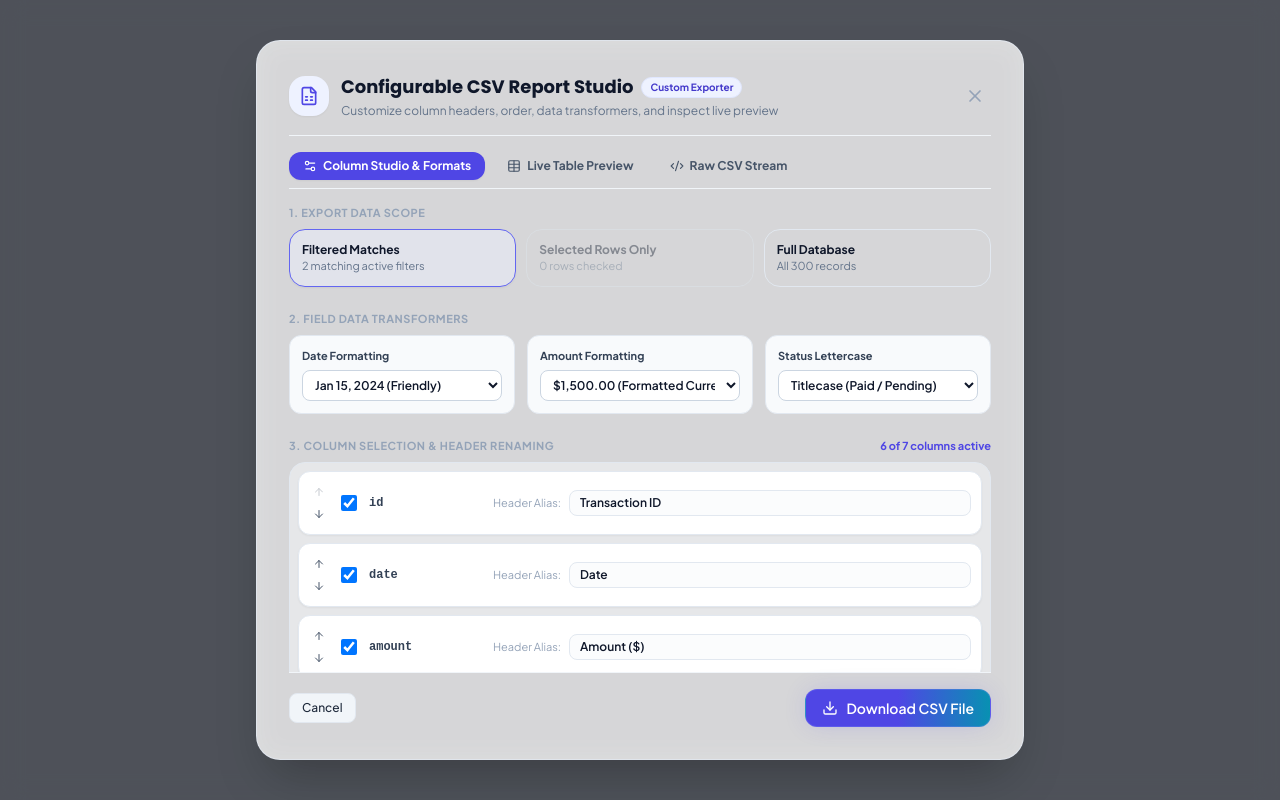
Test: CsvExportModal Component › switches to raw CSV stream tab and shows CSV format
The width and height of the screenshot is (1280, 800).
Click the button "Raw CSV Stream".
click(728, 166)  # box [656,152,801,180]
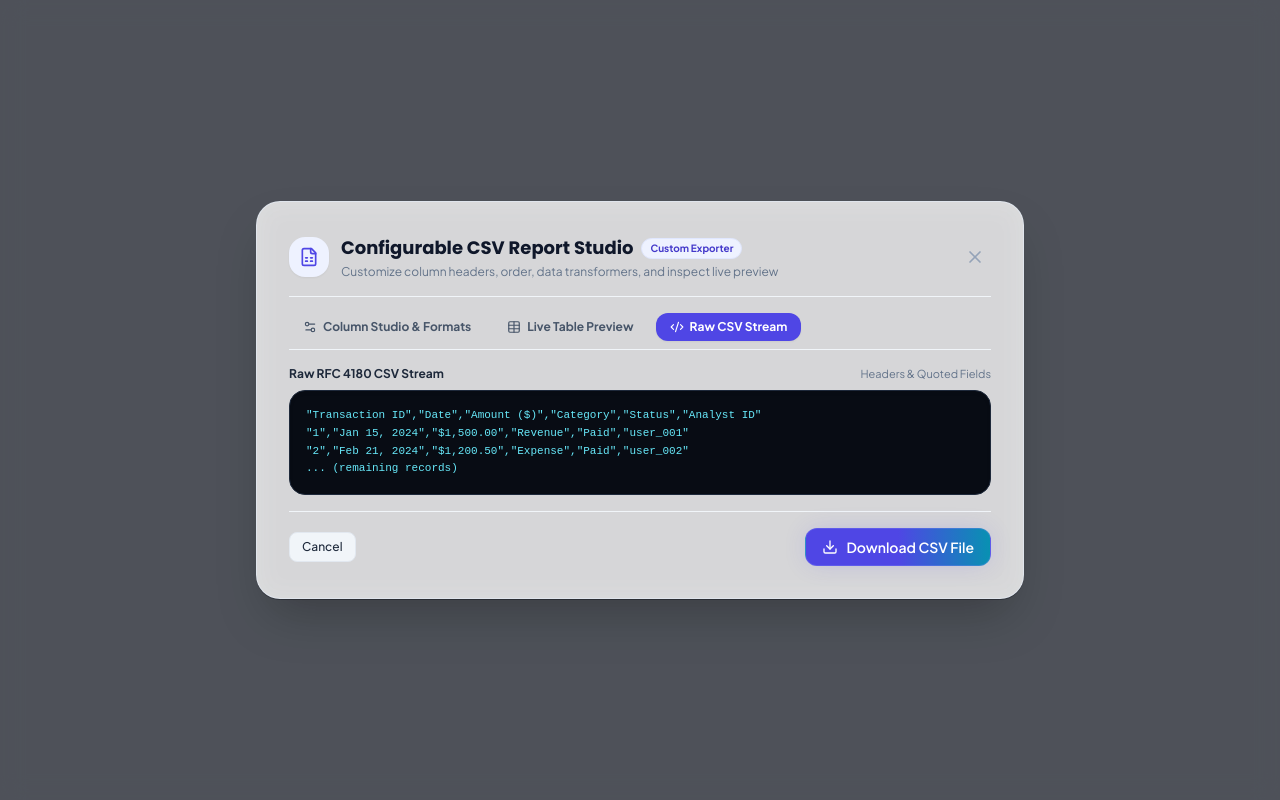
Expected: the text "Raw RFC 4180 CSV Stream" is shown, [289,366,444,382]
